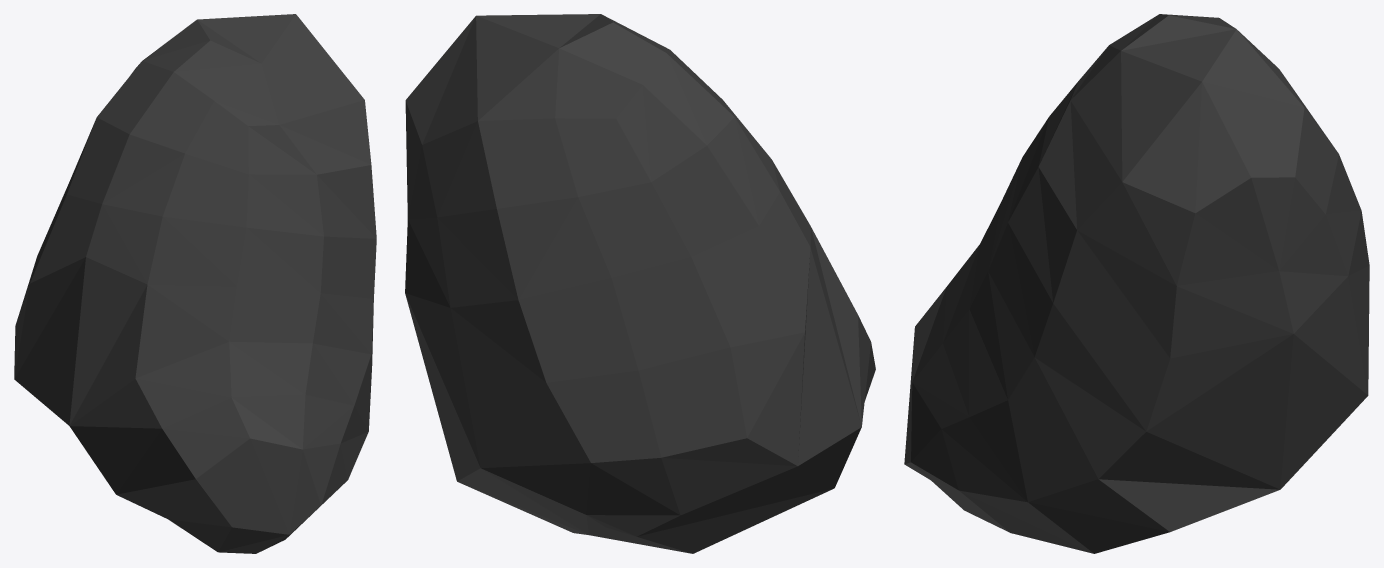
The model's file is RFL_scapula_main3.glb.
3 views of the same model, side by side, from view 1: azimuth 30°, elevation 25°; view 2: azimuth 150°, elevation 25°; view 3: azimuth 270°, elevation 25° (orthographic). The views are drawn at different scales.
Parts seen in each view (by area): view 1: RFL_scapula_main3; view 2: RFL_scapula_main3; view 3: RFL_scapula_main3.
Part boxes in pixels (x1,y1,x2,y2): RFL_scapula_main3: (14, 14, 376, 553); RFL_scapula_main3: (405, 14, 875, 553); RFL_scapula_main3: (904, 14, 1369, 553).
Size of the model in its own units: 3.78 by 4.78 by 3.97.
1 material, 1 textured.
